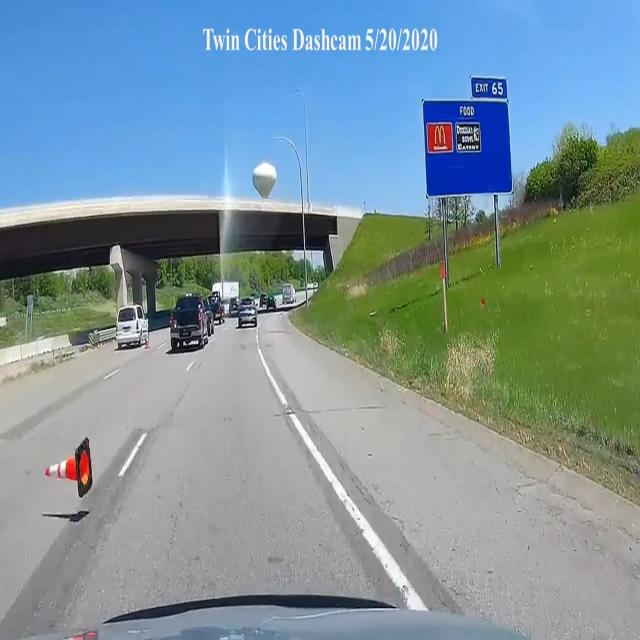cone: (46, 431, 96, 502)
